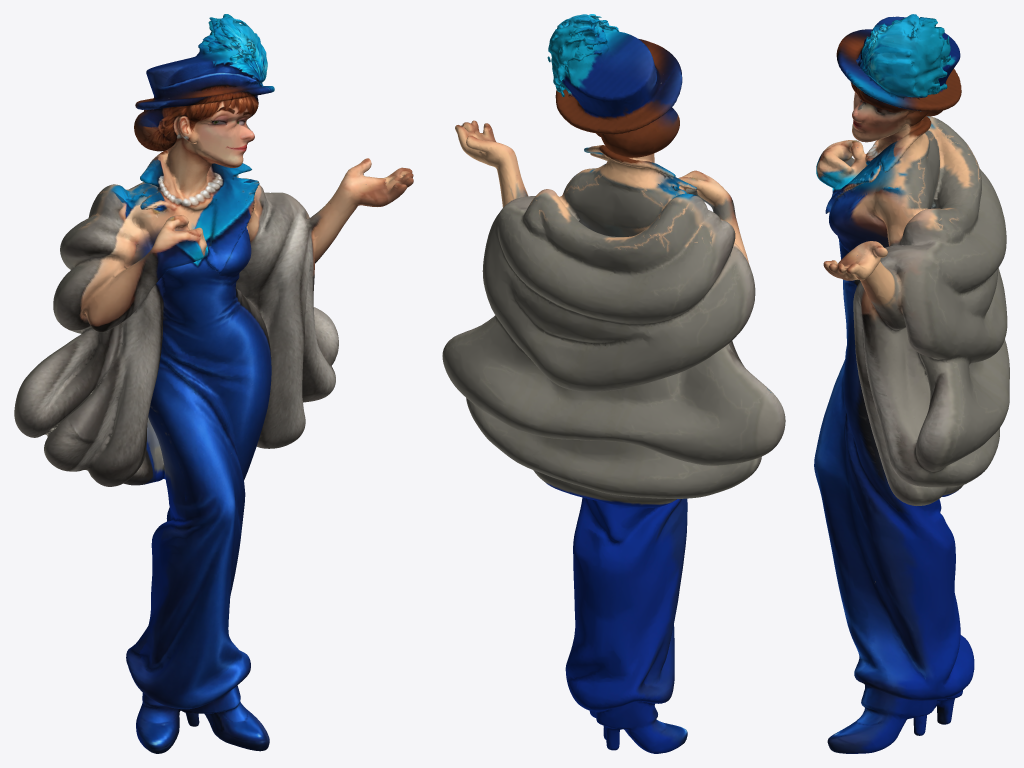
Rendered from sus-peacock.glb.
The picture shows the model from 3 angles, left to right: view 1: azimuth 30°, elevation 25°; view 2: azimuth 150°, elevation 25°; view 3: azimuth 270°, elevation 25°; orthographic projection. The views are drawn at different scales.
Visible parts, largest first — view 1: sus-peacock; view 2: sus-peacock; view 3: sus-peacock.
Boxes of the visible parts, box(x1,y1,x2,y2) form: sus-peacock: box(14, 14, 413, 753); sus-peacock: box(442, 14, 785, 753); sus-peacock: box(814, 14, 1009, 753).
Size of the model in its own units: 1.04 by 1.97 by 0.475.
Materials: 1 (1 with a texture image).
